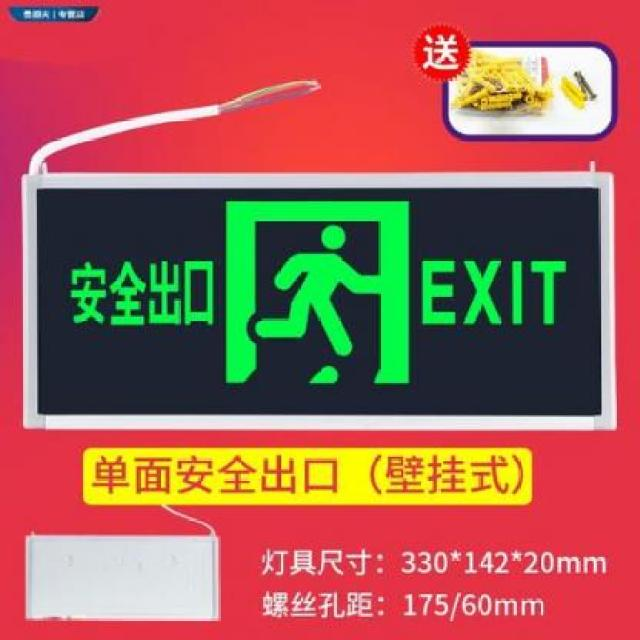exit_sign: (29, 184, 610, 424)
